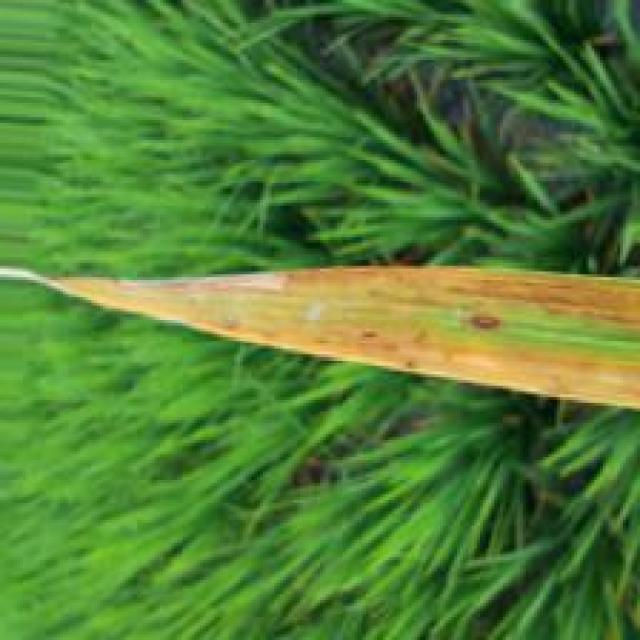Bacterial_Leaf_Blight: (8, 269, 640, 413)
